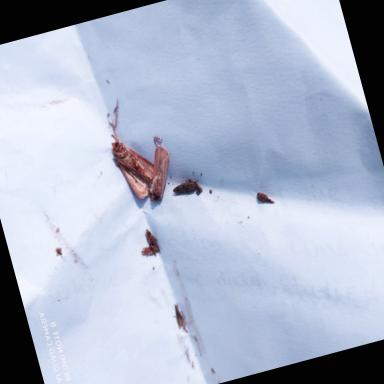pbw: (171, 176, 201, 198), (144, 227, 160, 257)
